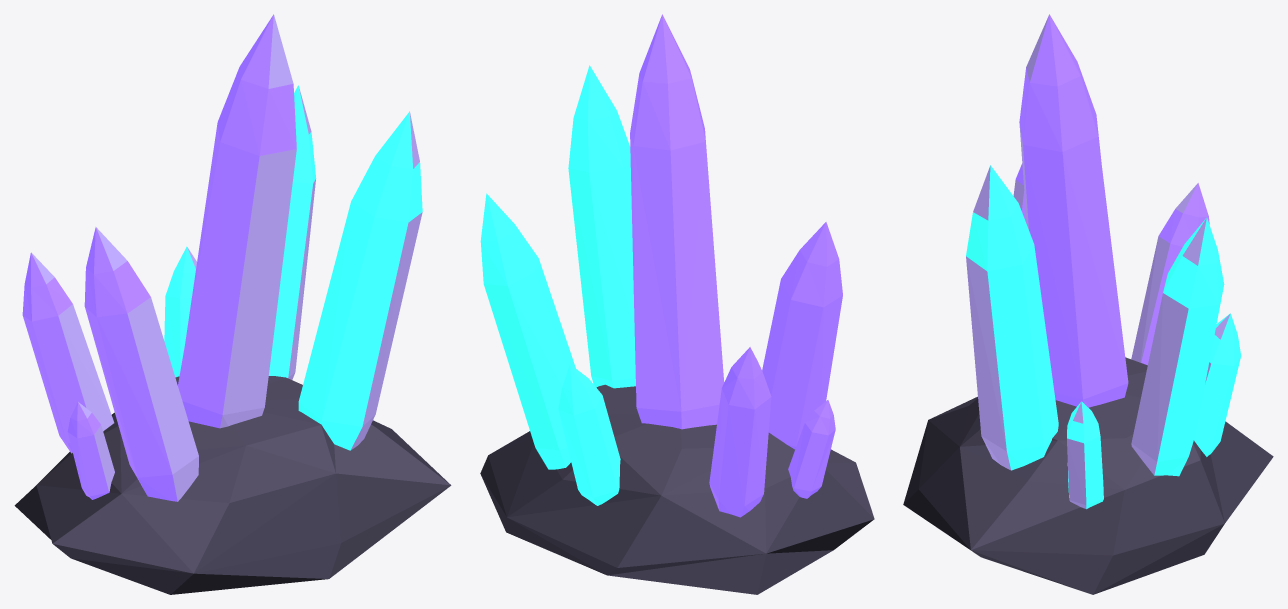
Rendered from crystal_cluster.glb.
3 renders of one model, left to right at view 1: azimuth 30°, elevation 25°; view 2: azimuth 150°, elevation 25°; view 3: azimuth 270°, elevation 25°, orthographic. The views are drawn at different scales.
Parts seen in each view (by area): view 1: crystal_cluster; view 2: crystal_cluster; view 3: crystal_cluster.
Part boxes in pixels (left/top/right/bottom): crystal_cluster: left=14, top=14, right=451, bottom=594; crystal_cluster: left=480, top=14, right=874, bottom=594; crystal_cluster: left=903, top=14, right=1273, bottom=594.
Bounding box in the file's own units: 1.78 × 2.2 × 1.48.
